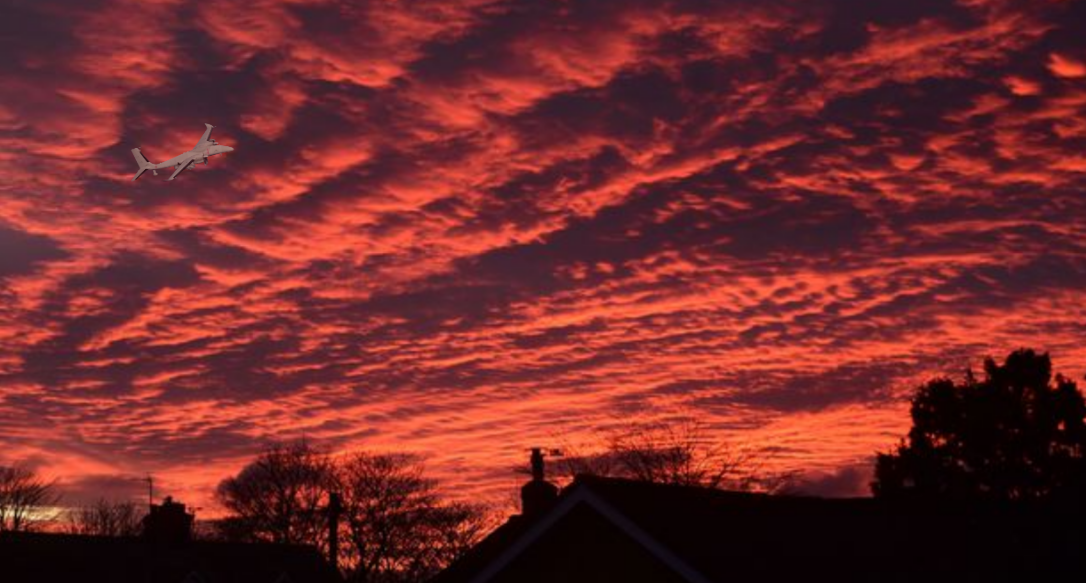military drone: (130, 122, 233, 182)
